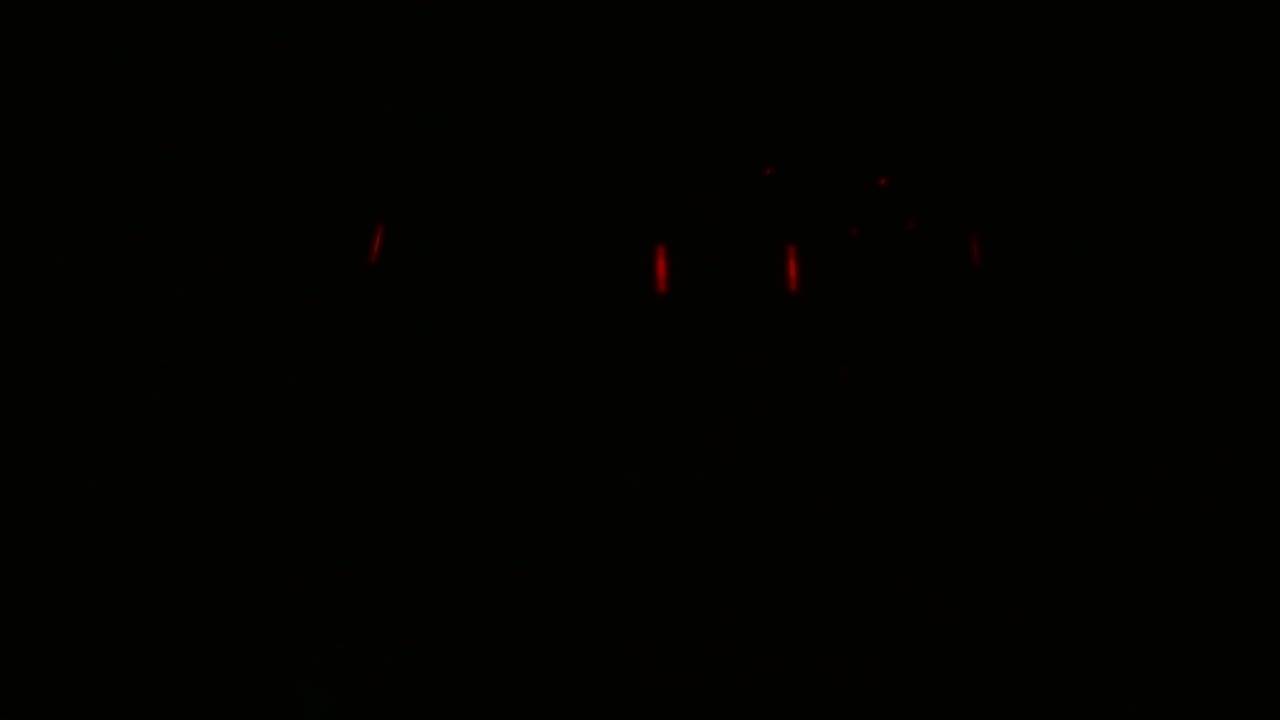pair1: (653, 242, 801, 297)
